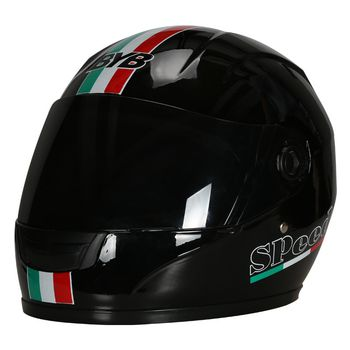with_helmet: (9, 23, 342, 331)
